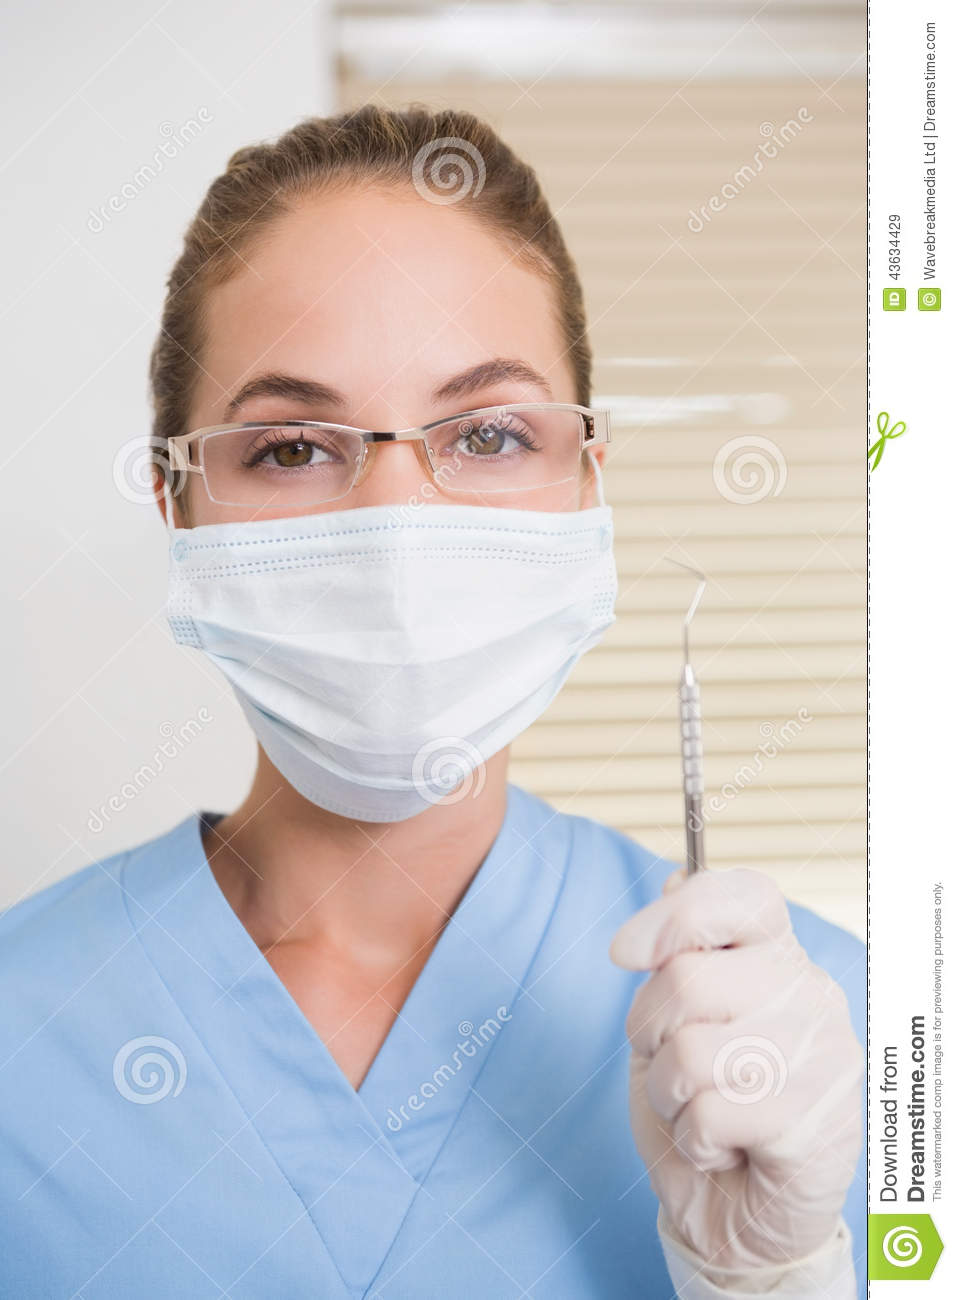mask: (148, 497, 666, 859)
